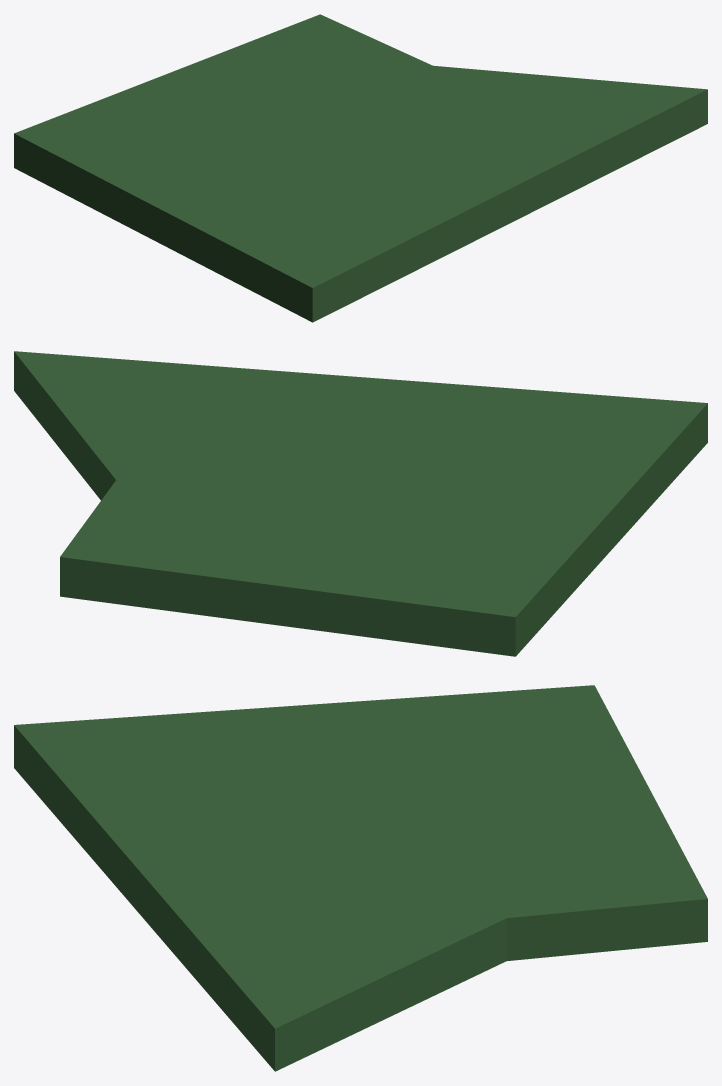
Rendered from x_proval_00_128_1_rmstrd.fbx.
3 renders of one model, top to bottom at view 1: azimuth 30°, elevation 25°; view 2: azimuth 150°, elevation 25°; view 3: azimuth 270°, elevation 25°, orthographic. The views are drawn at different scales.
Parts seen in each view (by area): view 1: x_proval_00_128_1_rmstrd1; view 2: x_proval_00_128_1_rmstrd1; view 3: x_proval_00_128_1_rmstrd1.
Part boxes in pixels (box(x1,y1,x2,y2)): x_proval_00_128_1_rmstrd1: box(14, 14, 707, 322); x_proval_00_128_1_rmstrd1: box(14, 351, 707, 656); x_proval_00_128_1_rmstrd1: box(14, 685, 707, 1071).
Size of the model in its own units: 3.43 by 0.2 by 2.93.
